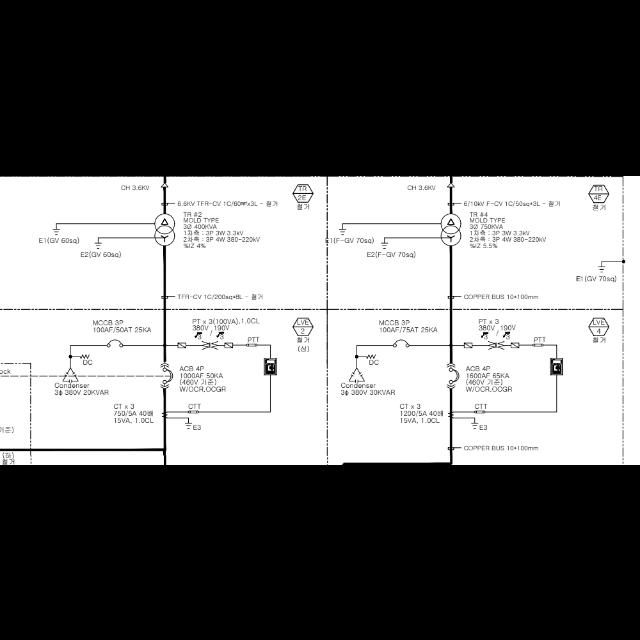ACB: (163, 367, 173, 383), (448, 368, 459, 382)
CH: (160, 182, 168, 186), (448, 182, 454, 186)
CT: (162, 411, 168, 419), (448, 410, 454, 418)
GND: (470, 422, 480, 430), (379, 241, 388, 249), (184, 422, 193, 430), (339, 227, 347, 235), (598, 264, 606, 272), (52, 228, 60, 235), (94, 242, 102, 248)
MCCB: (106, 338, 124, 348), (392, 339, 410, 347)
PF2: (510, 342, 520, 348), (463, 342, 472, 348), (178, 342, 186, 348), (225, 342, 233, 348)
PT: (488, 340, 504, 350), (202, 341, 218, 349)
SC: (62, 368, 78, 382), (350, 368, 364, 382)
